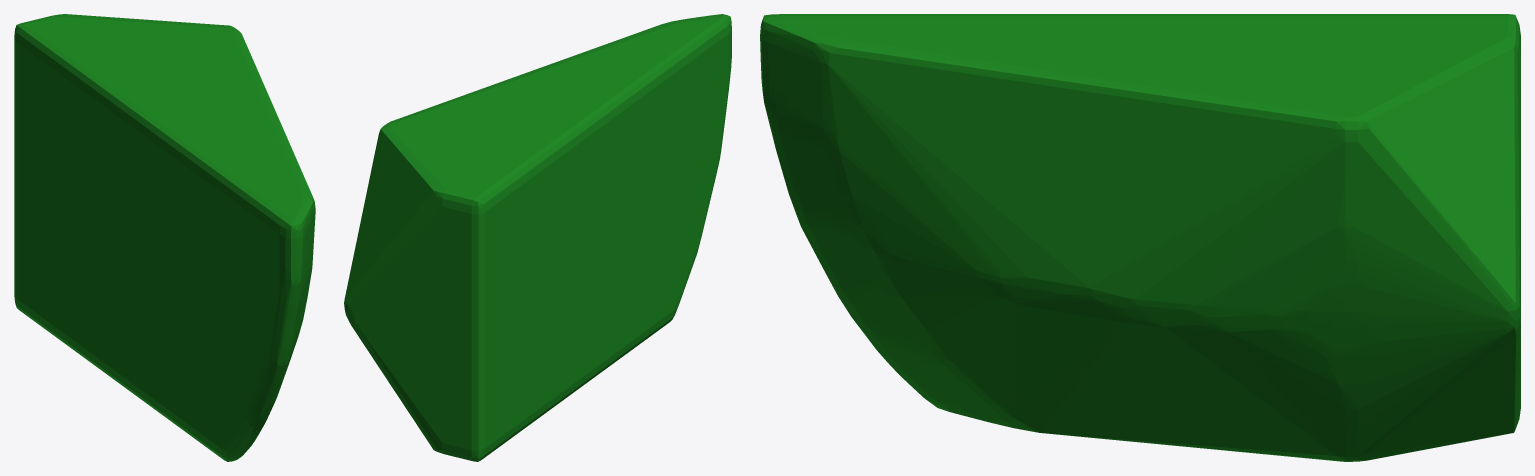
Rendered from left_shoulder_roll_link_part_8.obj.
3 views of the same model, side by side, from view 1: azimuth 30°, elevation 25°; view 2: azimuth 150°, elevation 25°; view 3: azimuth 270°, elevation 25° (orthographic). The views are drawn at different scales.
Bounding box in the file's own units: 0.0154 × 0.0249 × 0.044.
